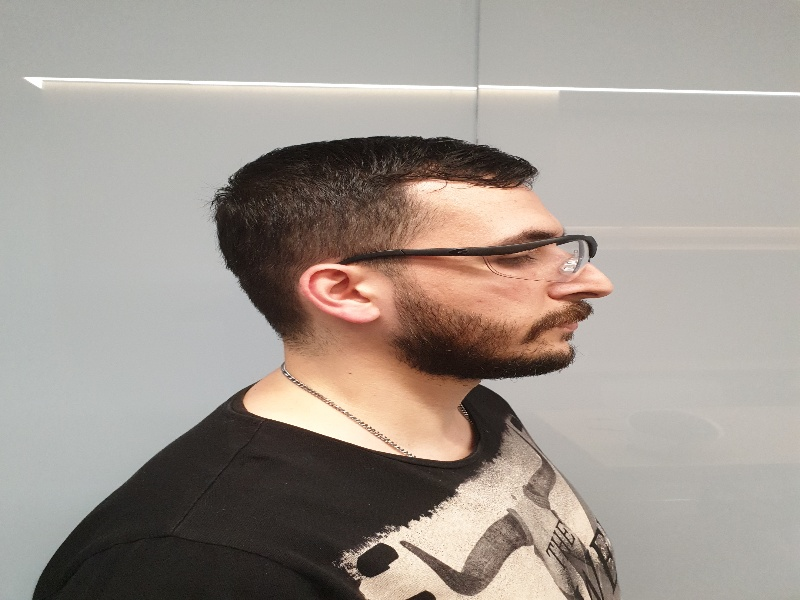Gozluk: (315, 232, 602, 281)
